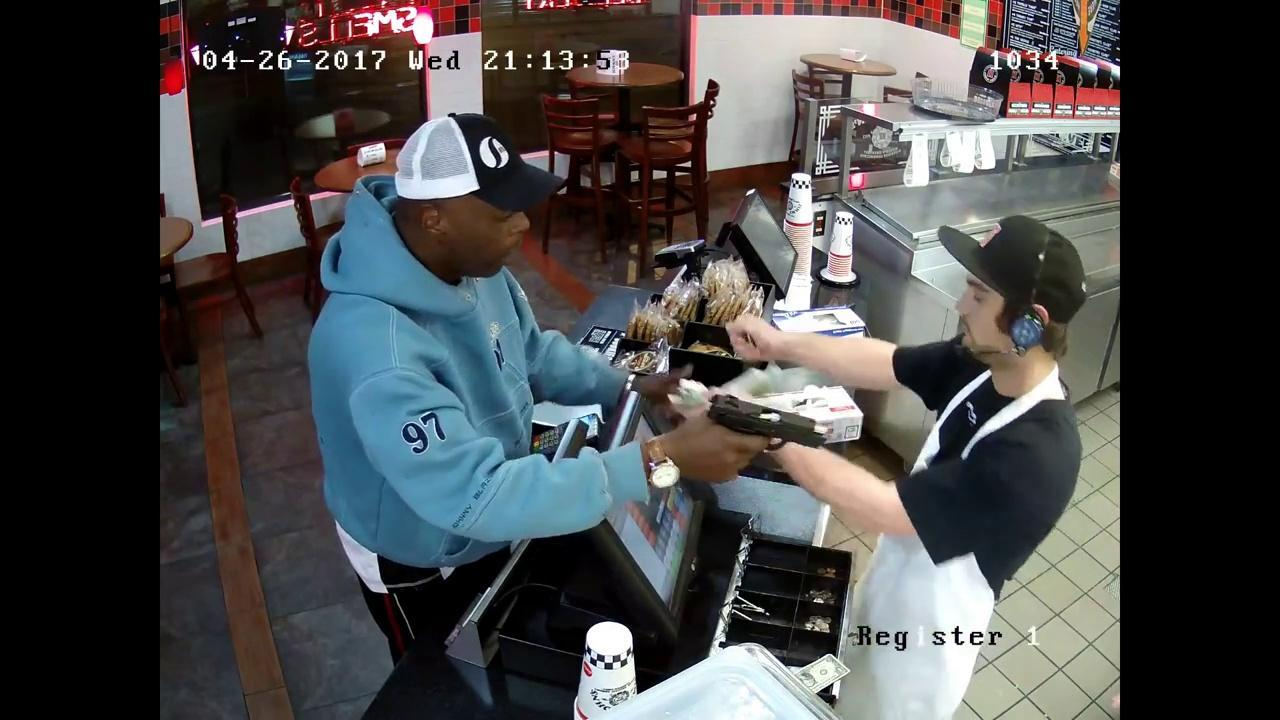Guns: (687, 380, 841, 477)
